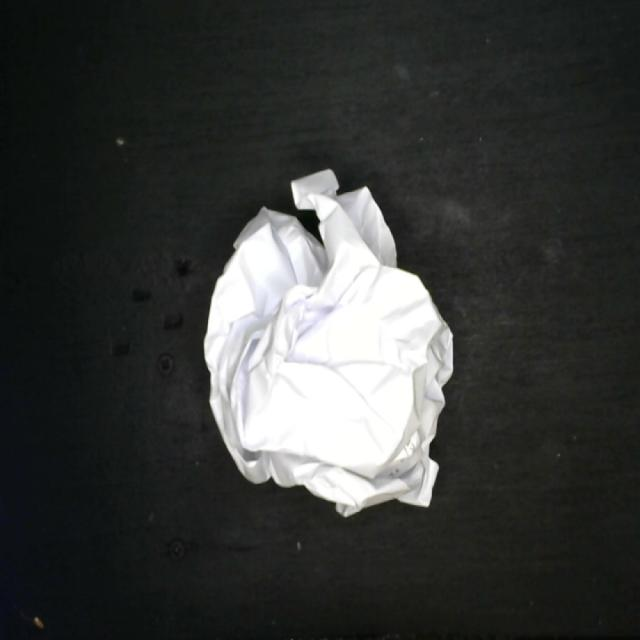biodegradable: (200, 167, 456, 519)
